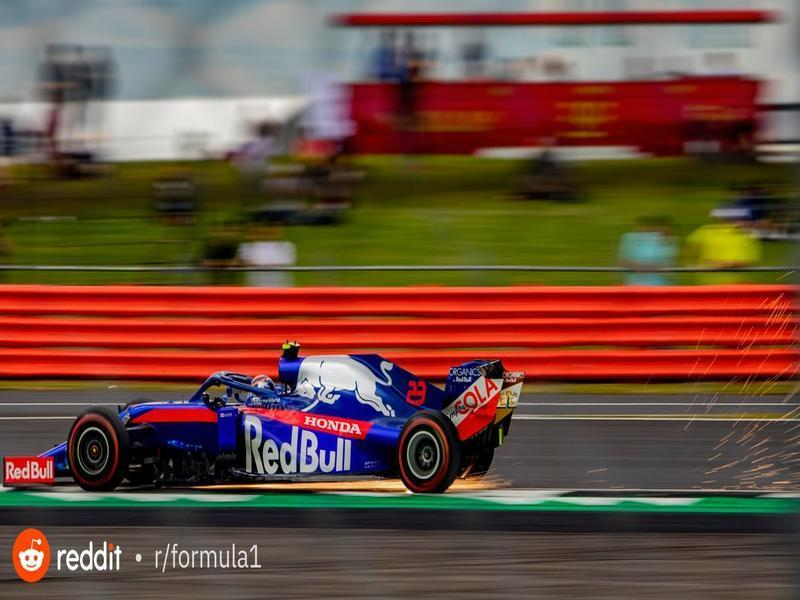f1: (36, 316, 561, 518)
